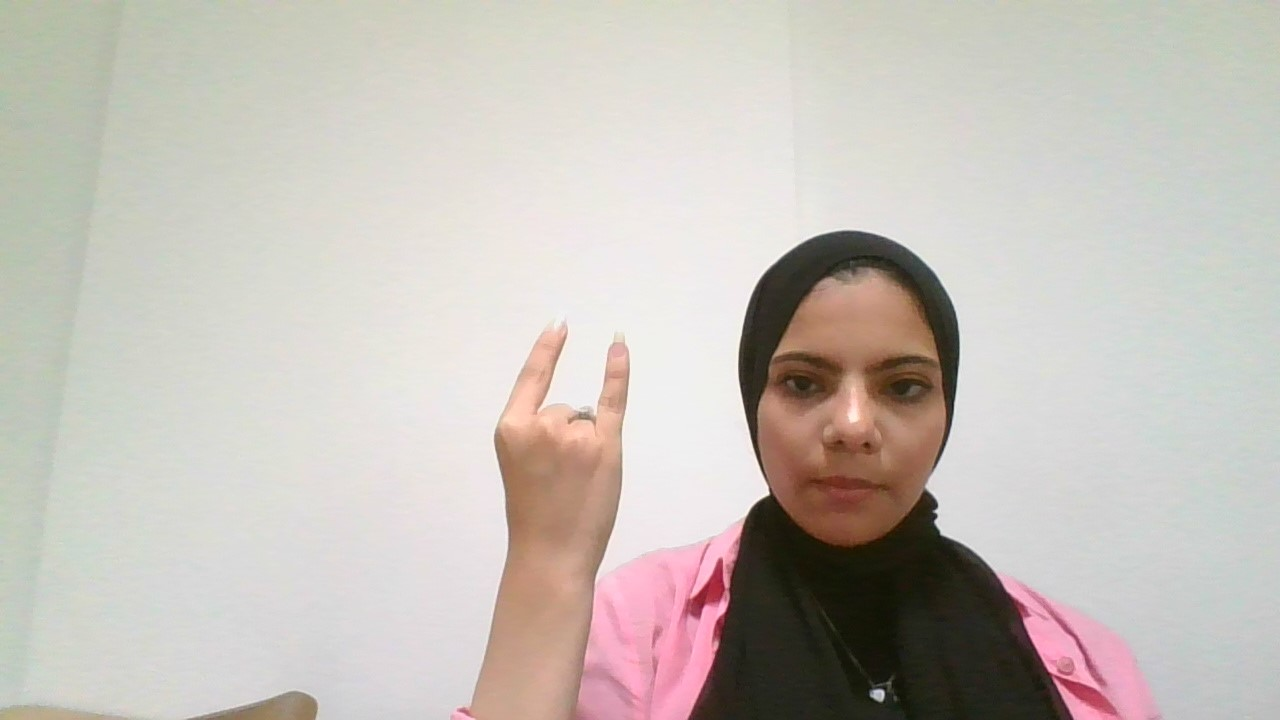love: (480, 299, 653, 580)
